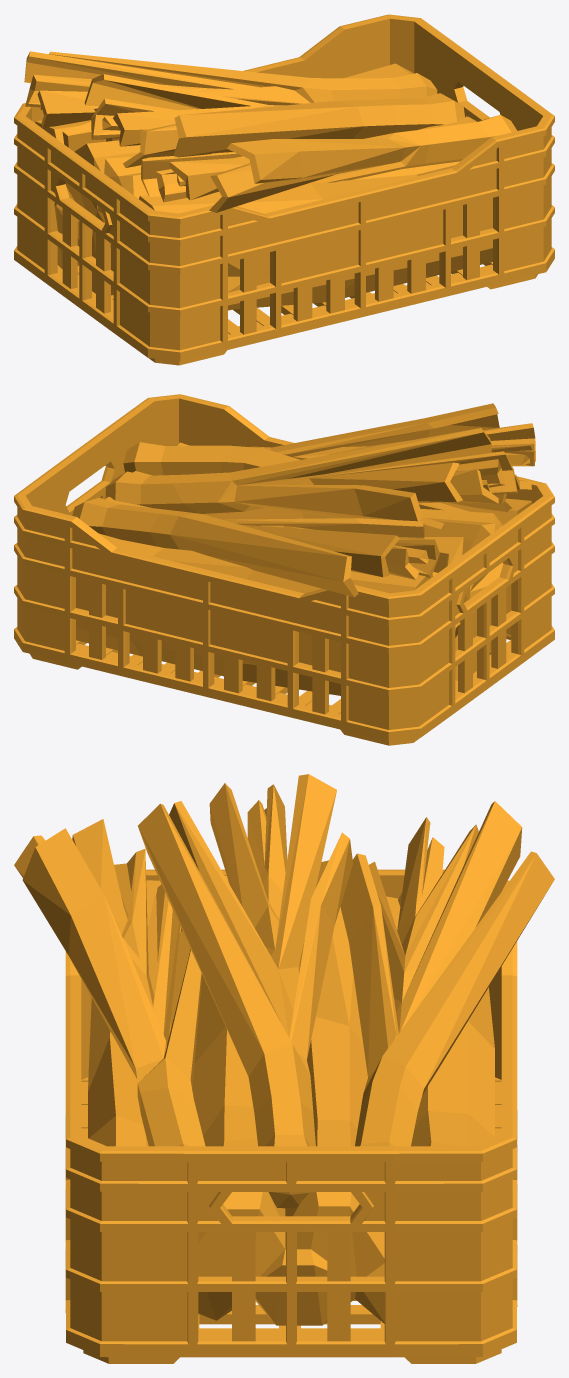
Rendered from SM_Crate_Plastic_Small_Leek_A.fbx.
3 renders of one model, top to bottom at view 1: azimuth 30°, elevation 25°; view 2: azimuth 150°, elevation 25°; view 3: azimuth 270°, elevation 25°, orthographic. The views are drawn at different scales.
Parts seen in each view (by area): view 1: crate-plastic-small-leek-a; view 2: crate-plastic-small-leek-a; view 3: crate-plastic-small-leek-a.
Boxes of the visible parts, left/top/right/bottom form: crate-plastic-small-leek-a: left=14, top=14, right=554, bottom=365; crate-plastic-small-leek-a: left=14, top=394, right=554, bottom=745; crate-plastic-small-leek-a: left=14, top=774, right=554, bottom=1363.
Bounding box in the file's own units: 0.6083 × 0.3322 × 0.4892.
